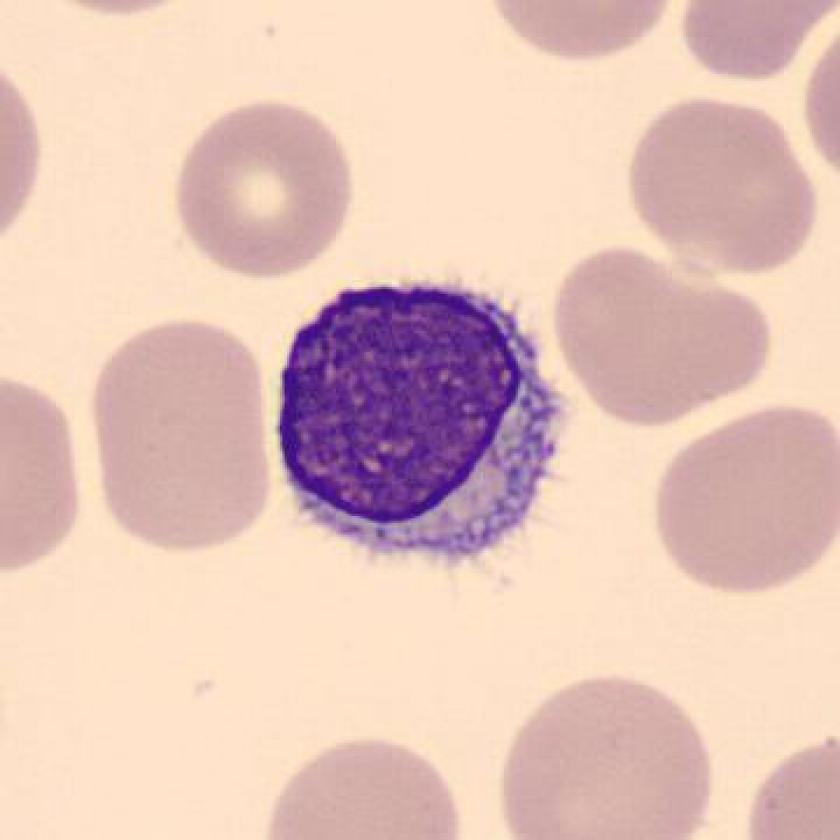lymphocyte: (256, 267, 578, 580)
